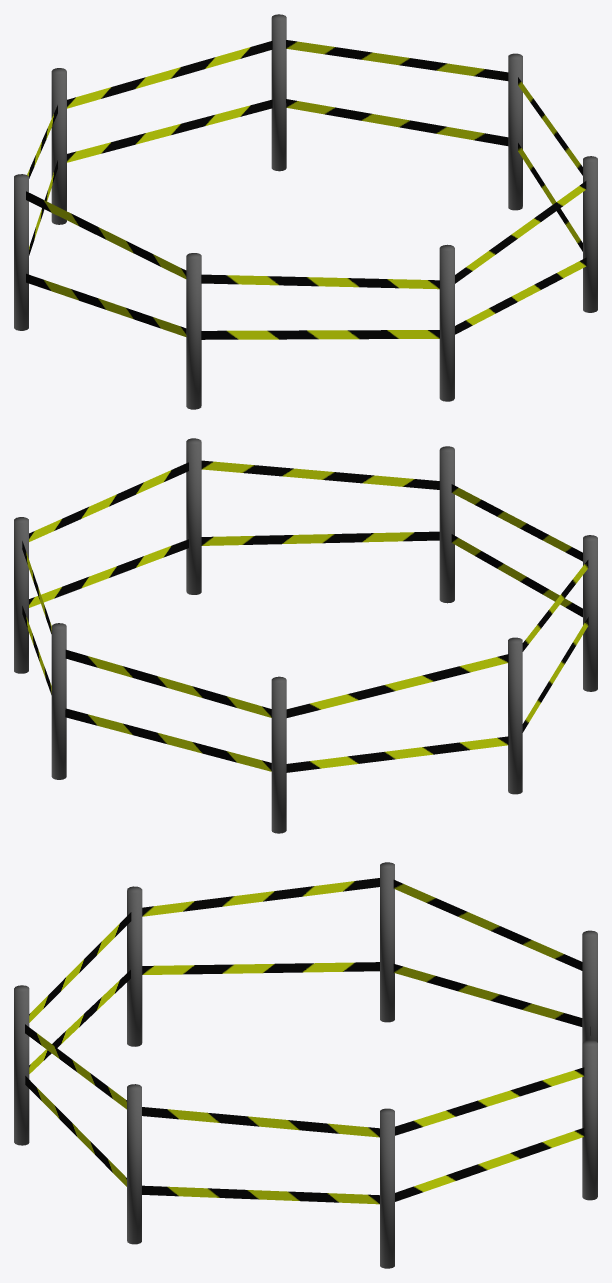
The model's file is tape.glb.
The picture shows the model from 3 angles, top to bottom: view 1: azimuth 30°, elevation 25°; view 2: azimuth 150°, elevation 25°; view 3: azimuth 270°, elevation 25°; orthographic projection. The views are drawn at different scales.
Visible parts, largest first — view 1: poles, Cylinder.013, Cylinder.008; view 2: poles, Cylinder.013, Cylinder.008; view 3: poles, Cylinder.013, Cylinder.008.
Boxes of the visible parts, x1,y1,x2,y2 form: poles: (14,14,597,409); Cylinder.013: (26,40,586,289); Cylinder.008: (26,99,586,339); poles: (14,438,597,833); Cylinder.013: (22,460,588,717); Cylinder.008: (22,531,588,772); poles: (14,862,597,1268); Cylinder.013: (25,878,590,1137); Cylinder.008: (25,962,584,1204).
Bounding box in the file's own units: 2 × 0.5669 × 1.95.
2 materials, 1 textured.
